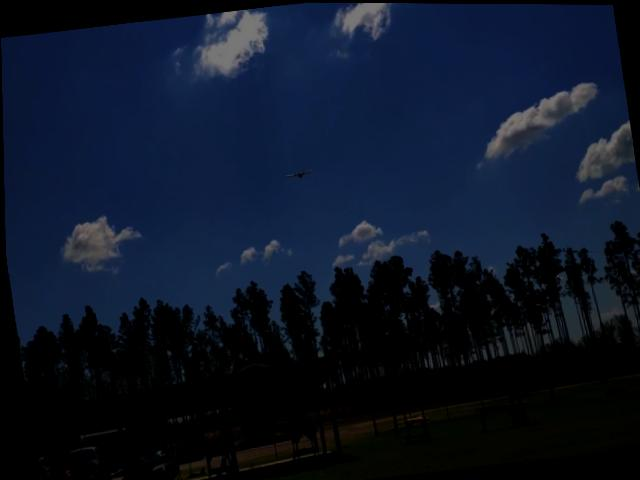plane: (285, 167, 311, 180)
